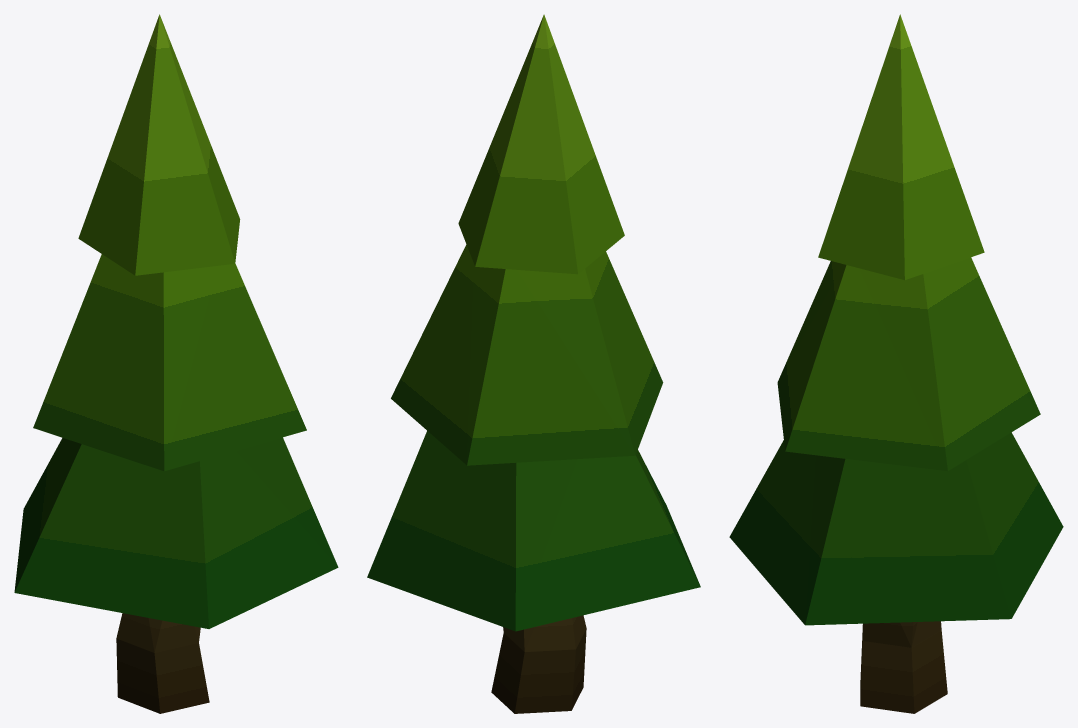
The model's file is pine_tree.glb.
The picture shows the model from 3 angles, left to right: view 1: azimuth 30°, elevation 25°; view 2: azimuth 150°, elevation 25°; view 3: azimuth 270°, elevation 25°; orthographic projection.
Visible parts, largest first — view 1: PineTree_2; view 2: PineTree_2; view 3: PineTree_2.
Part boxes in pixels (x1=…): PineTree_2: x1=14, y1=14, x2=338, y2=713; PineTree_2: x1=367, y1=14, x2=700, y2=713; PineTree_2: x1=729, y1=14, x2=1063, y2=713.
Size of the model in its own units: 0.8591 by 1.98 by 0.8866.
1 material, 1 textured.
